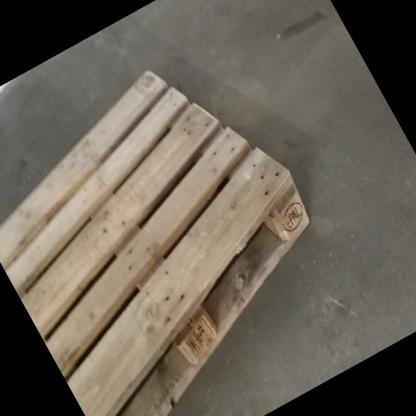BoxFace: (0, 61, 317, 416)
